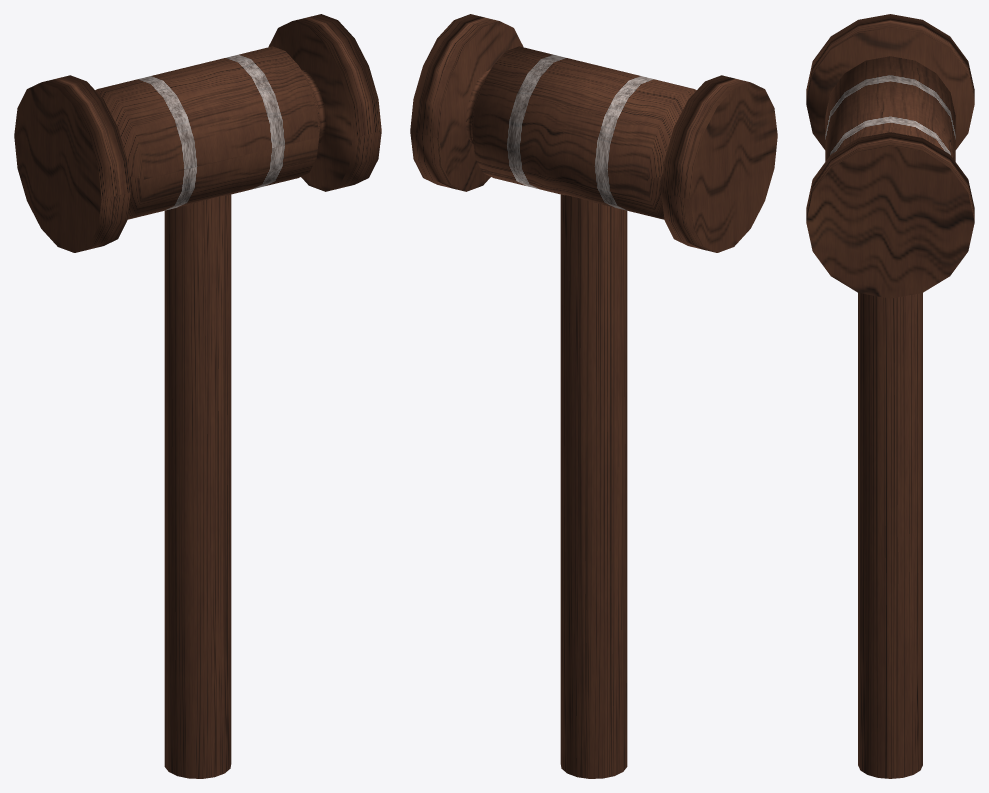
The model's file is hammer.fbx.
3 renders of one model, left to right at view 1: azimuth 30°, elevation 25°; view 2: azimuth 150°, elevation 25°; view 3: azimuth 270°, elevation 25°, orthographic. The views are drawn at different scales.
Visible parts, largest first — view 1: Cylinder; view 2: Cylinder; view 3: Cylinder.
Boxes of the visible parts, box(x1,y1,x2,y2) form: Cylinder: box(14, 14, 381, 778); Cylinder: box(410, 14, 777, 778); Cylinder: box(806, 14, 974, 778).
Bounding box in the file's own units: 96 × 233 × 51.84.
